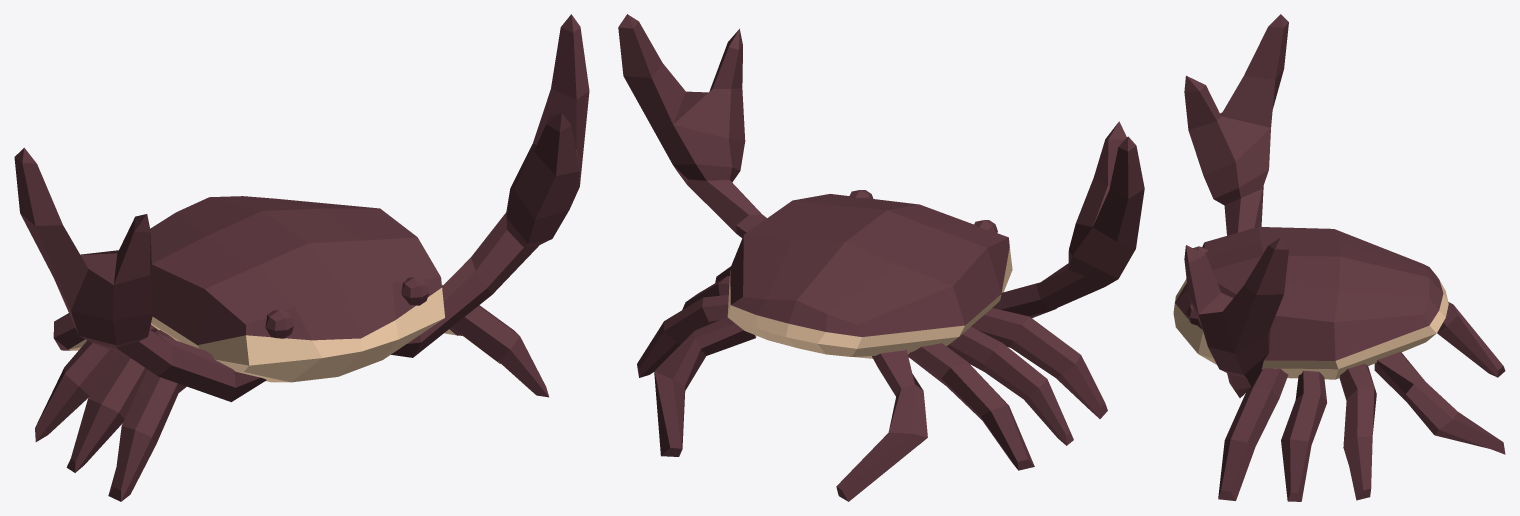
Rendered from crab.fbx.
The picture shows the model from 3 angles, left to right: view 1: azimuth 30°, elevation 25°; view 2: azimuth 150°, elevation 25°; view 3: azimuth 270°, elevation 25°; orthographic projection. The views are drawn at different scales.
Visible parts, largest first — view 1: crab; view 2: crab; view 3: crab.
Part boxes in pixels (x1,y1,x2,y2): crab: (14, 14, 589, 501); crab: (618, 14, 1144, 501); crab: (1173, 14, 1505, 501).
Size of the model in its own units: 0.2996 by 0.1762 by 0.1844.
